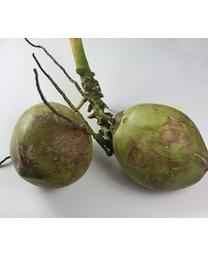coconut: (110, 102, 207, 193), (9, 101, 93, 190)
